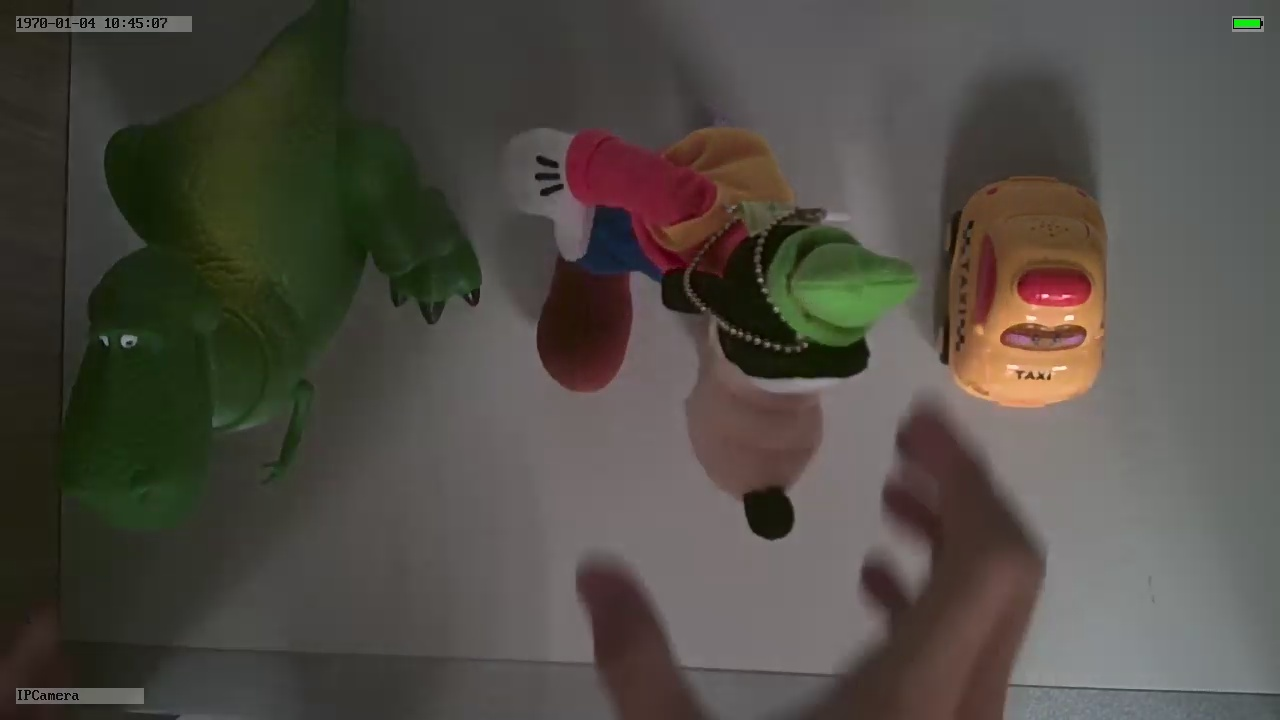car: (934, 167, 1115, 409)
goofy: (497, 115, 923, 544)
rex: (66, 69, 483, 538)
